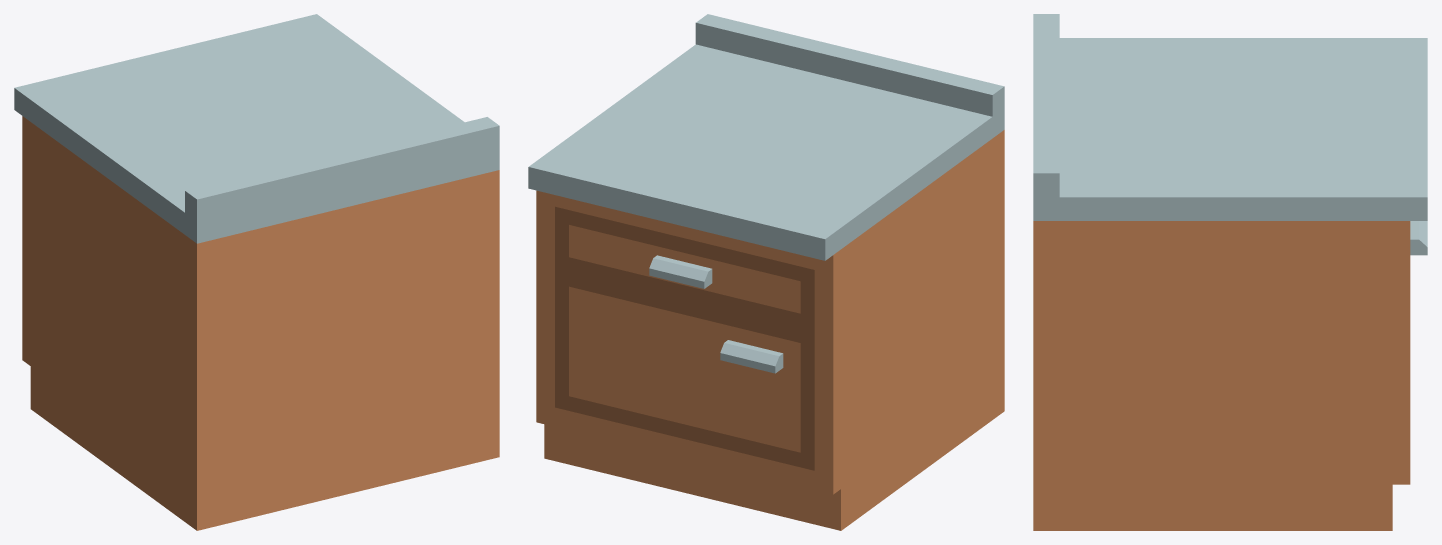
File: kitchenCabinetDrawer.obj
3 renders of one model, left to right at view 1: azimuth 30°, elevation 25°; view 2: azimuth 150°, elevation 25°; view 3: azimuth 270°, elevation 25°, orthographic. The views are drawn at different scales.
Visible parts, largest first — view 1: kitchenCabinetDrawer; view 2: kitchenCabinetDrawer, door, drawer; view 3: kitchenCabinetDrawer, door.
Boxes of the visible parts, bbox=[...] form: kitchenCabinetDrawer: bbox=[14, 14, 499, 530]; kitchenCabinetDrawer: bbox=[528, 14, 1004, 530]; door: bbox=[555, 268, 814, 470]; drawer: bbox=[555, 206, 814, 331]; kitchenCabinetDrawer: bbox=[1033, 14, 1427, 530]; door: bbox=[1410, 221, 1427, 255].
Bounding box in the file's own units: 0.43 × 0.45 × 0.45.
